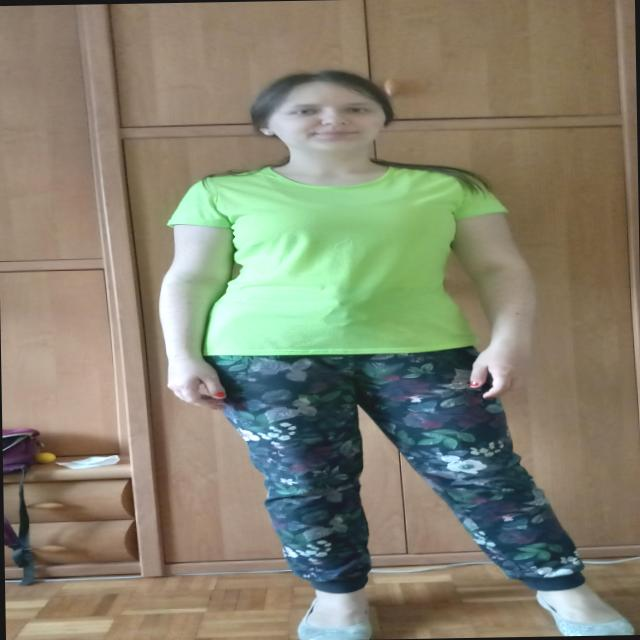Tshirt: (165, 160, 512, 358)
pants: (196, 343, 584, 597)
